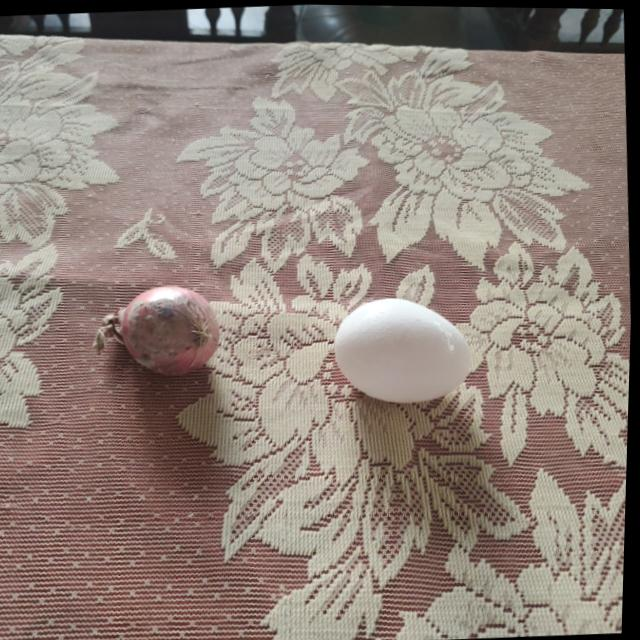egg: (336, 296, 478, 406)
onion: (97, 283, 221, 375)
